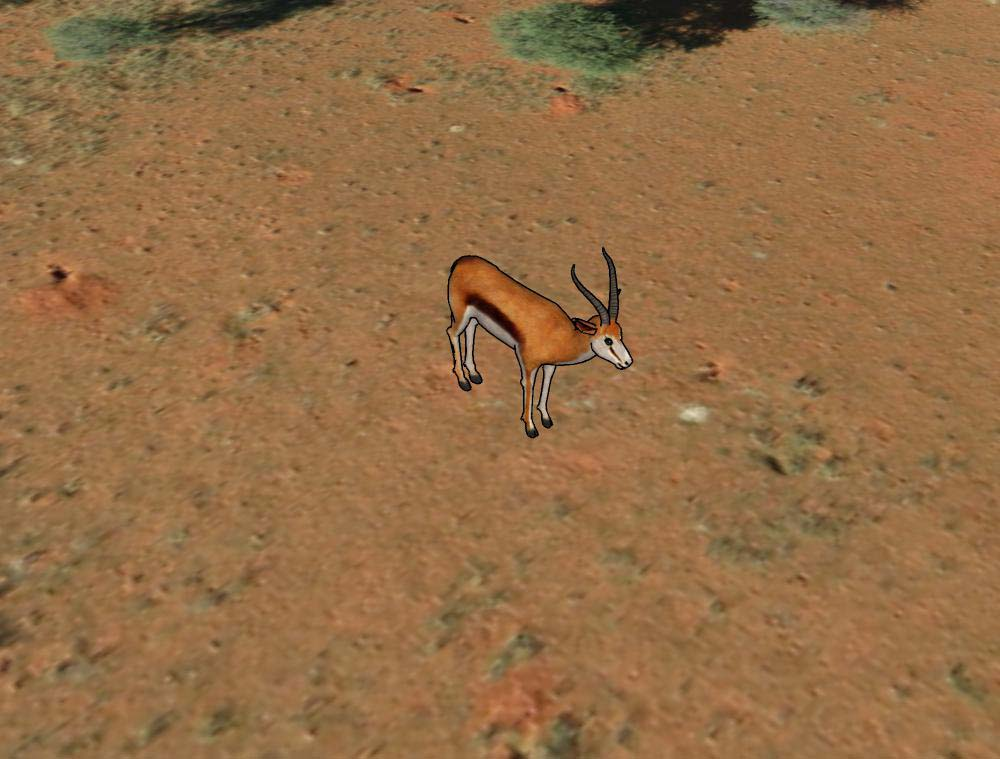springbok: (440, 238, 639, 440)
